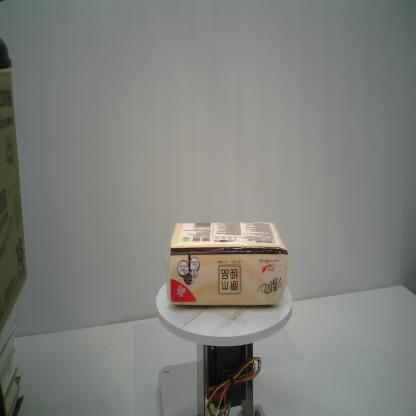Tissue: (165, 221, 289, 307)
